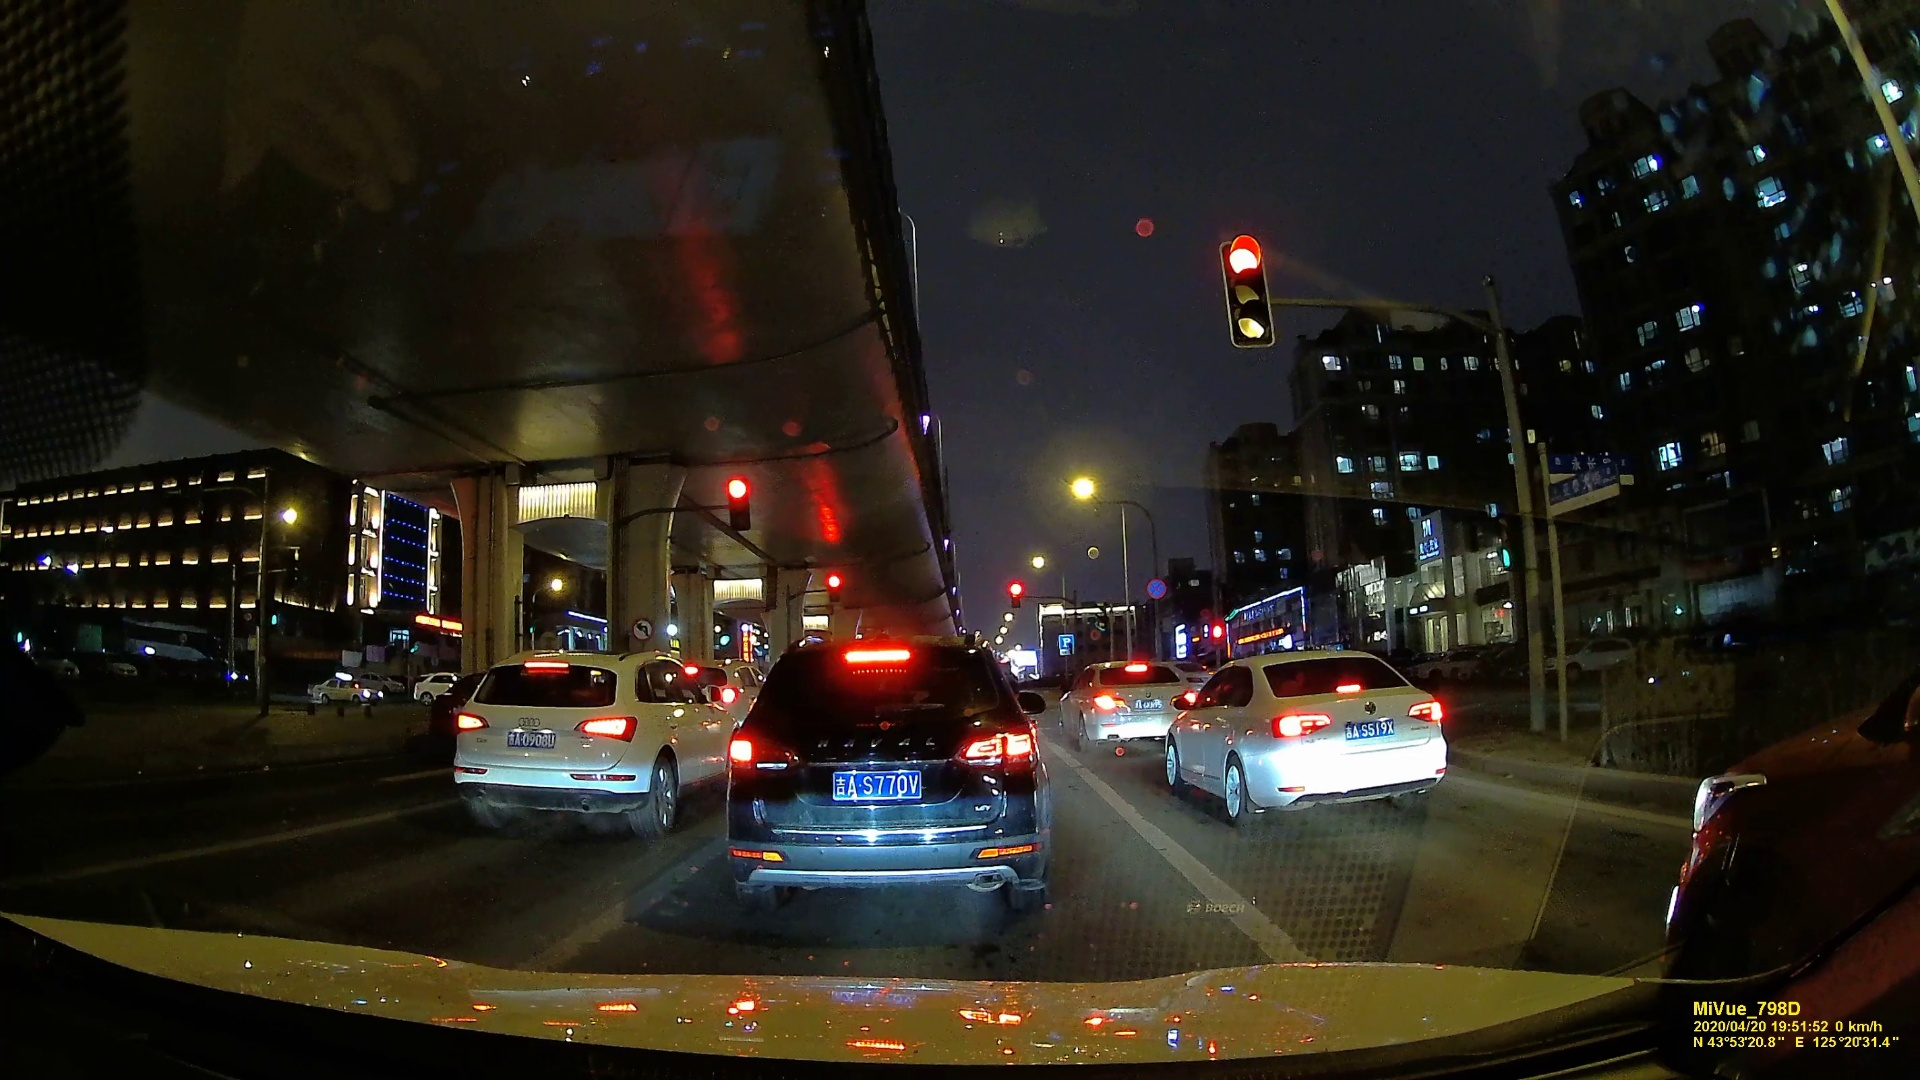traffic_sign: (1224, 240, 1270, 348), (1549, 462, 1622, 506), (1484, 500, 1515, 567), (725, 477, 750, 527), (1145, 576, 1168, 600), (632, 618, 655, 640), (827, 574, 844, 601), (1007, 582, 1023, 609), (1058, 633, 1076, 655)
vehicle: (724, 642, 1048, 930), (450, 654, 740, 845), (1162, 655, 1448, 828), (1064, 655, 1192, 744), (407, 671, 451, 699)
